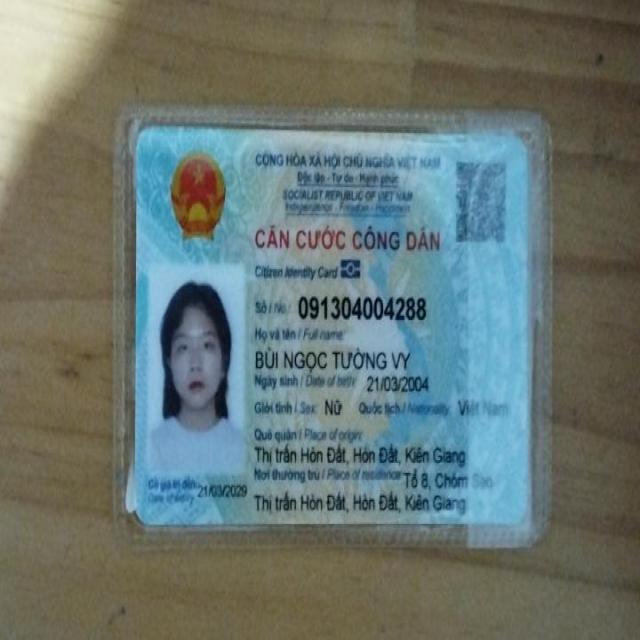bottom_left: (118, 500, 161, 540)
bottom_right: (500, 486, 546, 544)
image_person: (146, 267, 254, 482)
top_left: (120, 115, 164, 163)
top_right: (496, 126, 536, 166)
